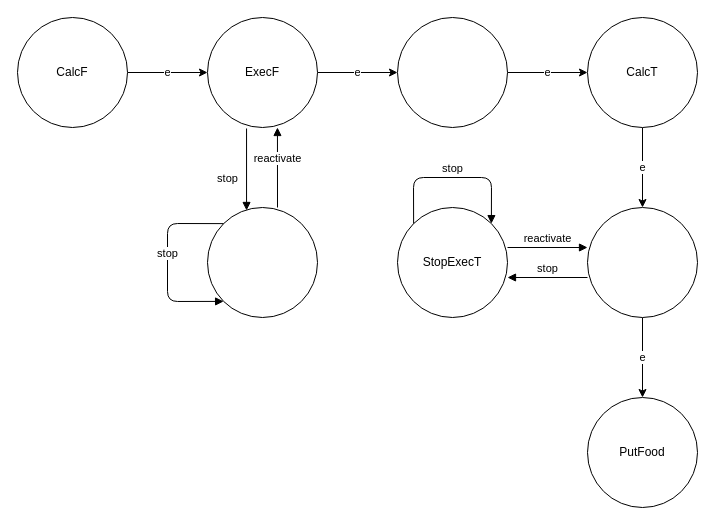
Some shapes in this 715 by 525 pixel diagram are drawn without their labels. Each missing label, with the box of its shape:
ExecT: (586, 206, 698, 318)
stopExecF: (206, 206, 318, 318)
TakeFood: (396, 16, 508, 128)
